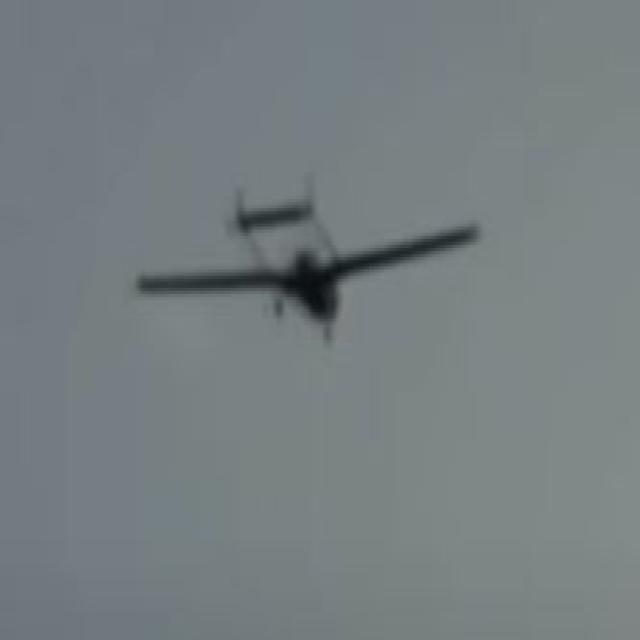iha: (133, 167, 488, 353)
